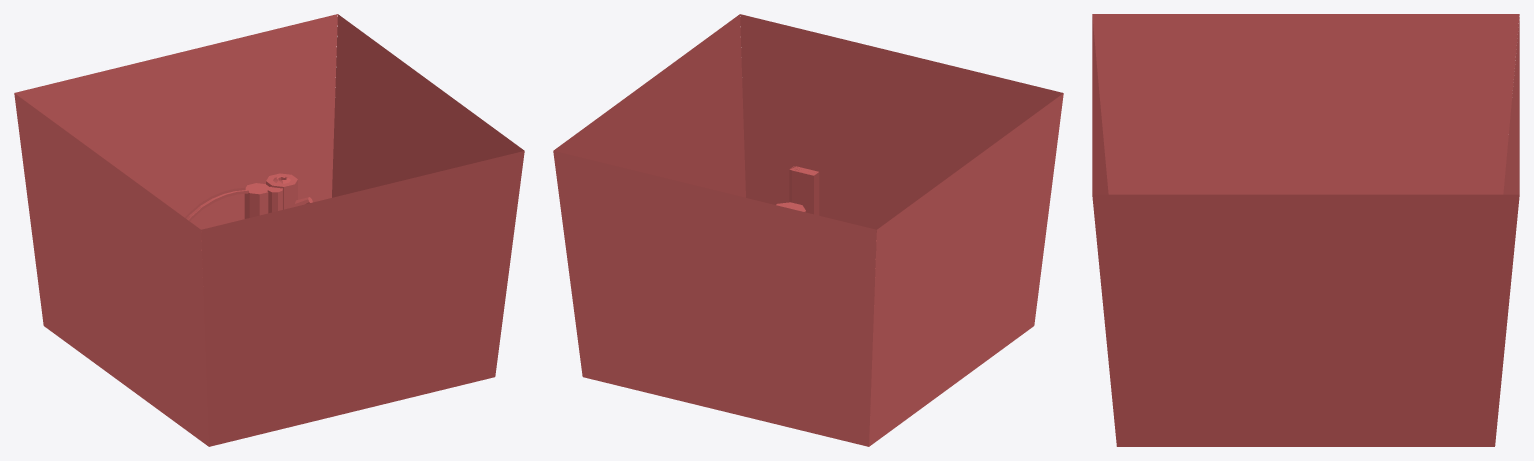
File: ex_m_map.glb
3 views of the same model, side by side, from view 1: azimuth 30°, elevation 25°; view 2: azimuth 150°, elevation 25°; view 3: azimuth 270°, elevation 25° (orthographic). The views are drawn at different scales.
Parts seen in each view (by area): view 1: ex_m_map_col; view 2: ex_m_map_col; view 3: ex_m_map_col.
Boxes of the visible parts, x1=… form: ex_m_map_col: x1=14, y1=14, x2=524, y2=446; ex_m_map_col: x1=553, y1=14, x2=1063, y2=446; ex_m_map_col: x1=1092, y1=14, x2=1519, y2=446.
Size of the model in its own units: 20.81 by 14.18 by 20.8.
